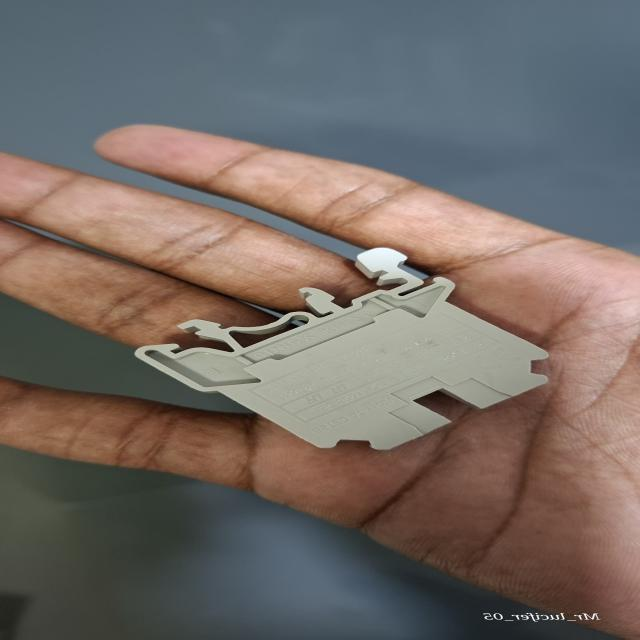Inverted: (130, 242, 560, 451)
